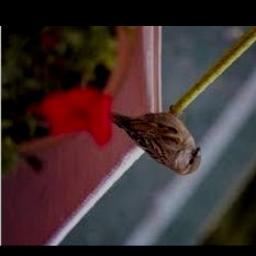Sparrow: (110, 105, 202, 176)
